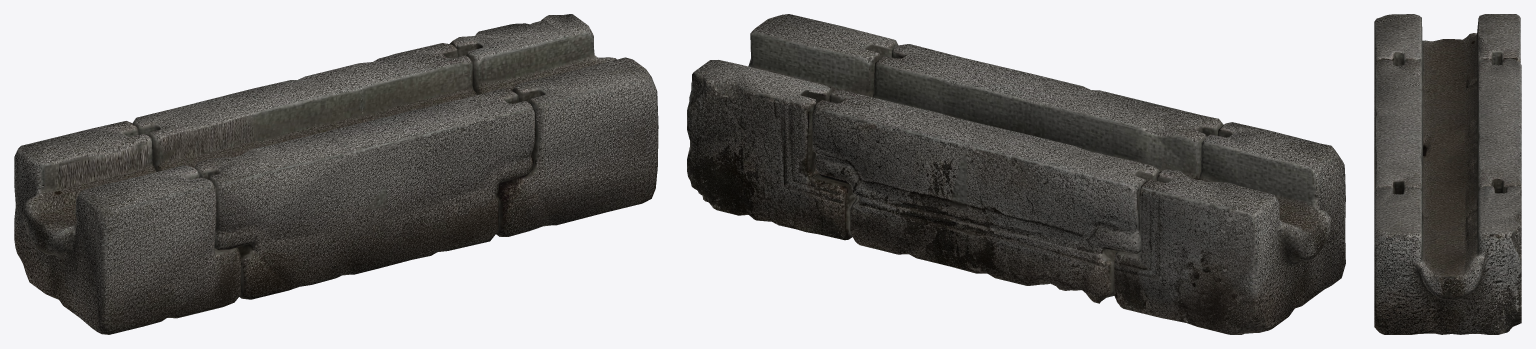
The model's file is tripo_convert_37447cd9-0043-4e72-a348-7c042b62f16f.fbx.
The picture shows the model from 3 angles, left to right: view 1: azimuth 30°, elevation 25°; view 2: azimuth 150°, elevation 25°; view 3: azimuth 270°, elevation 25°; orthographic projection. The views are drawn at different scales.
Visible parts, largest first — view 1: tripo_node_37447cd9; view 2: tripo_node_37447cd9; view 3: tripo_node_37447cd9.
Part boxes in pixels (bbox=[...]): tripo_node_37447cd9: bbox=[14, 14, 658, 334]; tripo_node_37447cd9: bbox=[687, 14, 1345, 334]; tripo_node_37447cd9: bbox=[1374, 14, 1521, 334].
Bounding box in the file's own units: 0.998 × 0.2012 × 0.2598.
Materials: 1 (1 with a texture image).
